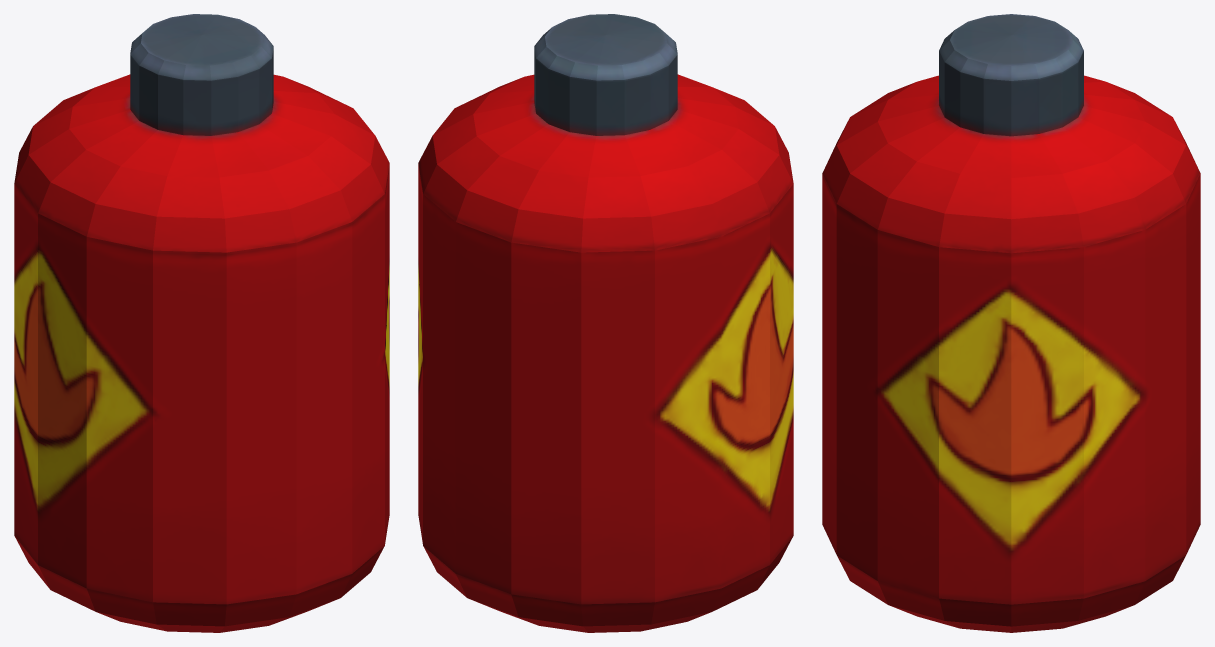
Rendered from fuel_ballon.fbx.
3 renders of one model, left to right at view 1: azimuth 30°, elevation 25°; view 2: azimuth 150°, elevation 25°; view 3: azimuth 270°, elevation 25°, orthographic.
Visible parts, largest first — view 1: fuel_ballon; view 2: fuel_ballon; view 3: fuel_ballon.
Boxes of the visible parts, left/top/right/bottom form: fuel_ballon: left=14, top=14, right=389, bottom=632; fuel_ballon: left=418, top=14, right=793, bottom=632; fuel_ballon: left=822, top=14, right=1200, bottom=632.
Bounding box in the file's own units: 200 × 200 × 328.
1 material, 1 textured.
